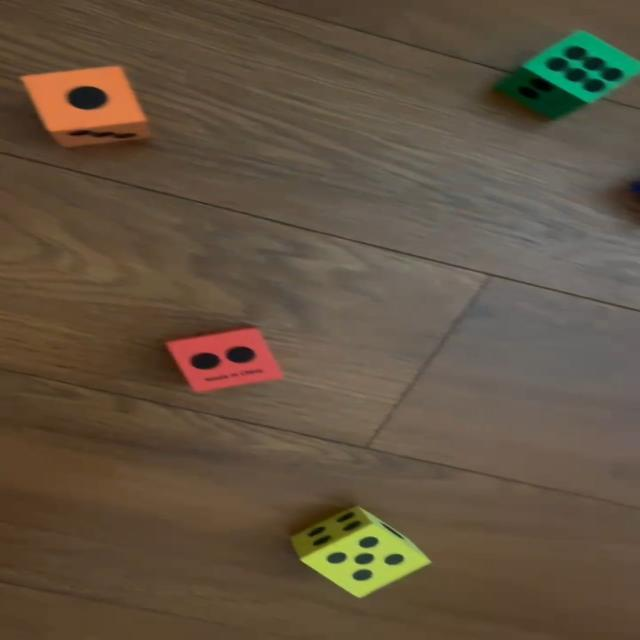red_block: (170, 326, 283, 392)
